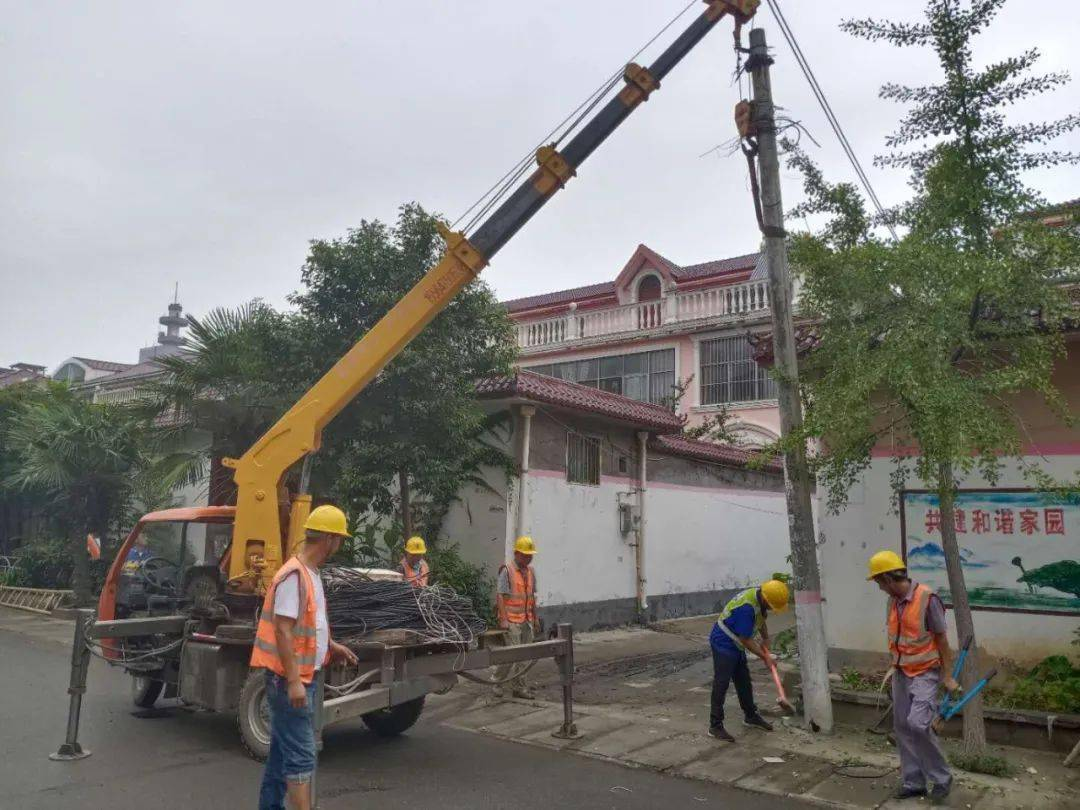person: (249, 501, 359, 810), (863, 550, 961, 805), (705, 578, 794, 745), (491, 533, 541, 699)
reflective_vest: (249, 554, 333, 684), (885, 581, 945, 677), (714, 584, 767, 655), (496, 563, 536, 624), (396, 557, 431, 587)
safety_helmet: (300, 501, 354, 564), (864, 550, 911, 600), (756, 578, 793, 617), (511, 533, 538, 568), (402, 534, 427, 568)
